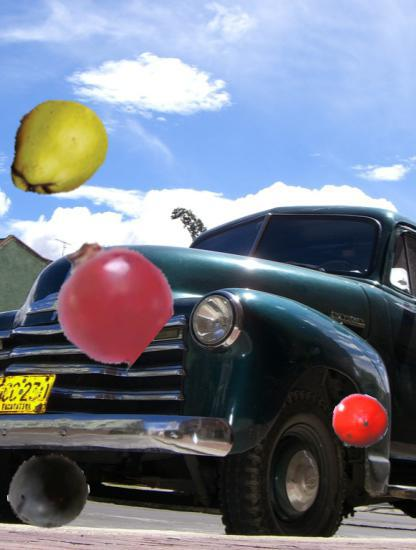Kaki: (331, 394, 389, 452)
Plum: (7, 450, 90, 533)
Quince: (3, 96, 111, 204)
Redcurrant: (48, 238, 170, 360)
